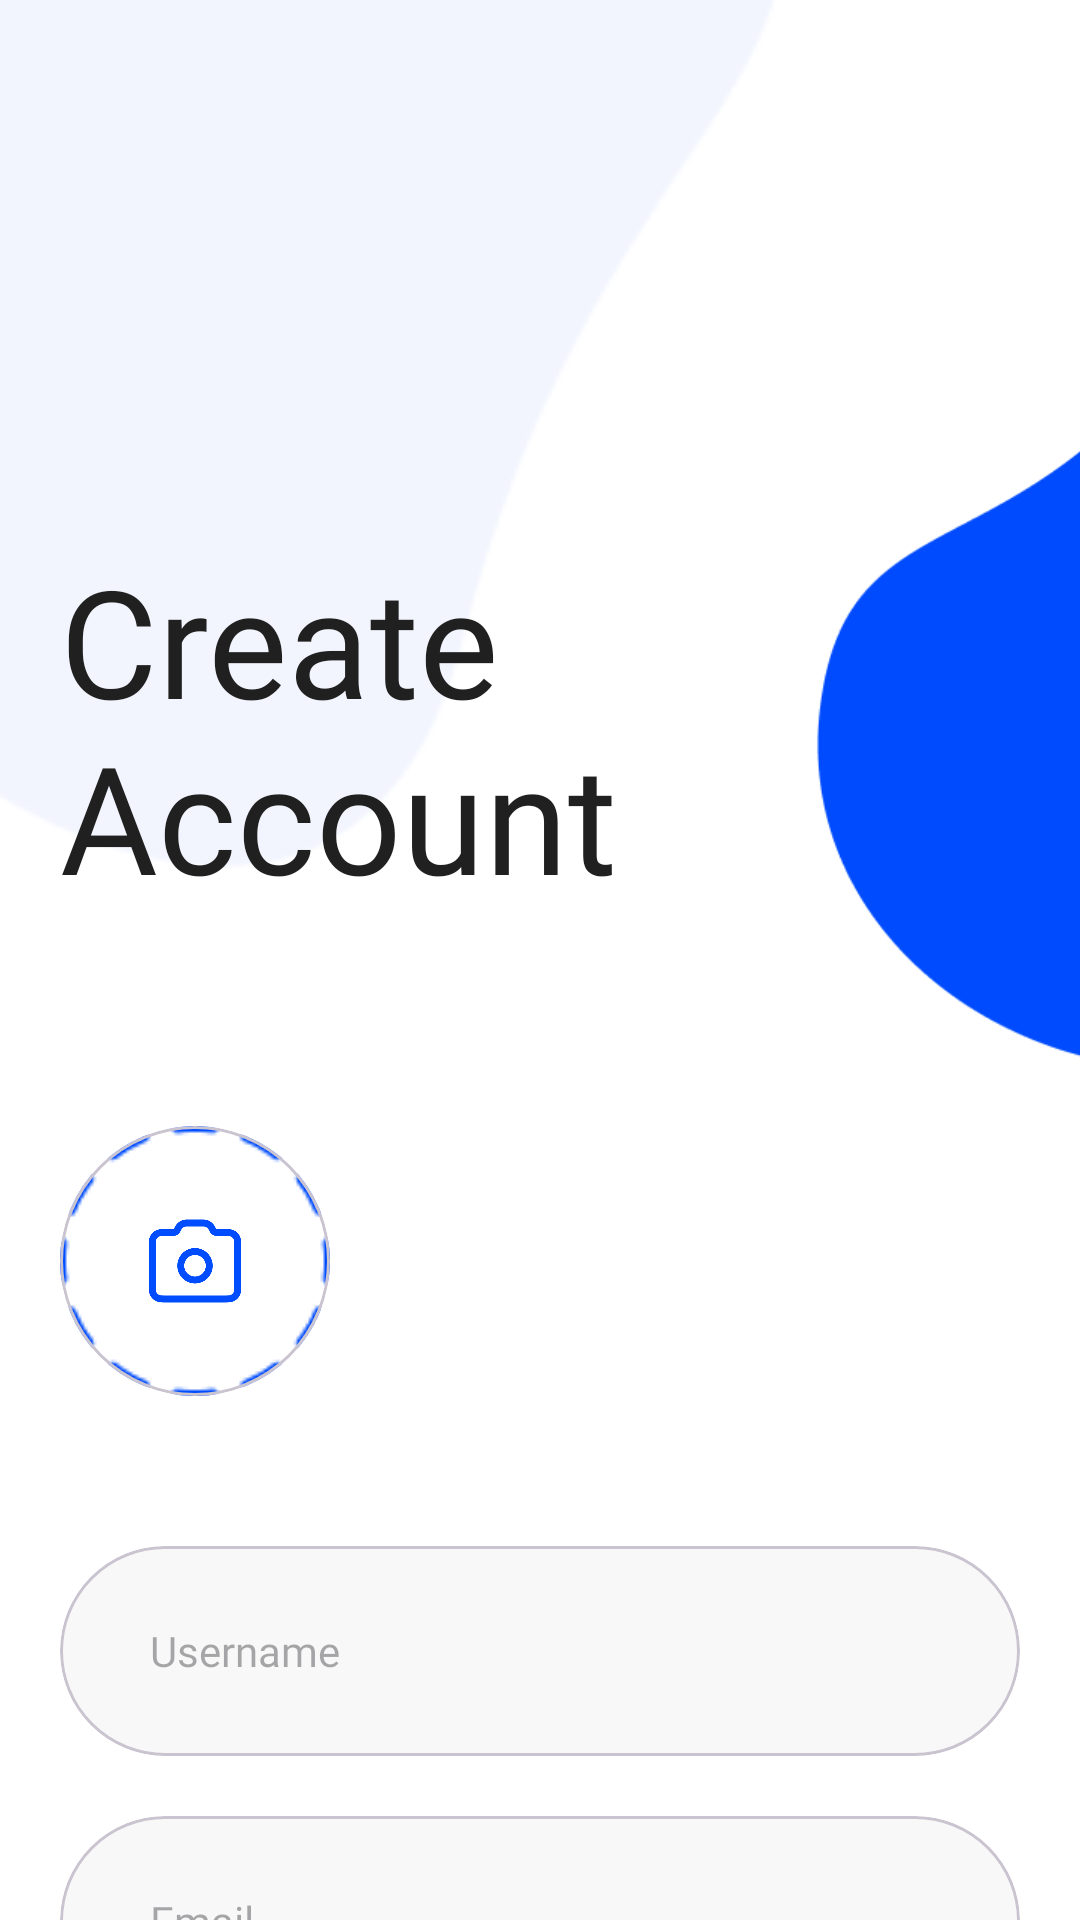

Icons on this 1080x1920 Android screen, each with its box as (x1, y1, x2, y2):
camerabg: (60, 1126, 330, 1396)
